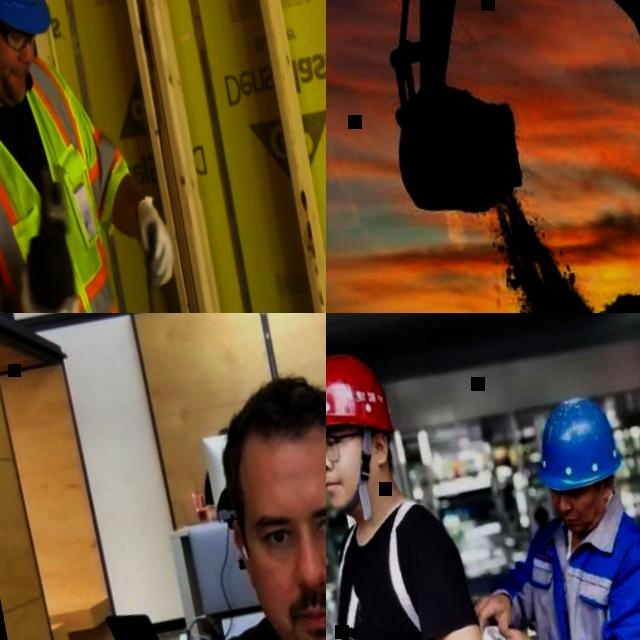Hardhat: (518, 393, 627, 499), (326, 344, 396, 439)
NO-Hardhat: (219, 364, 326, 479)
NO-Mask: (271, 584, 326, 640), (326, 469, 357, 512), (0, 60, 27, 108), (561, 506, 597, 538)
NO-Safety Vest: (326, 498, 493, 640), (514, 510, 640, 640)
Person: (78, 341, 326, 640), (326, 331, 531, 640), (0, 0, 199, 313), (439, 382, 640, 640), (189, 425, 241, 502)
Safety Vest: (0, 36, 169, 313)
machinery: (332, 0, 640, 313)
